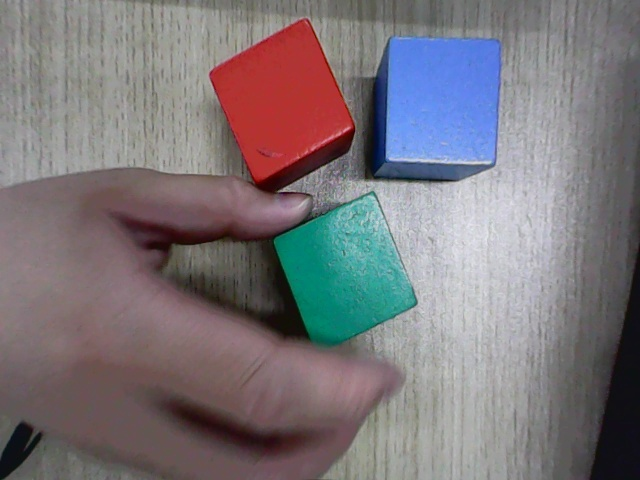upside of big cube: (209, 19, 354, 184), (272, 192, 417, 348), (387, 38, 501, 166)
